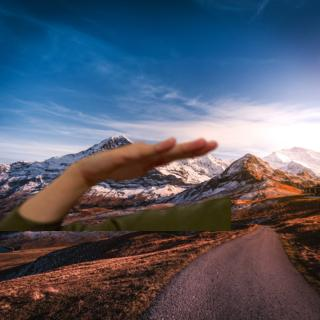WAIT: (74, 133, 223, 188)
